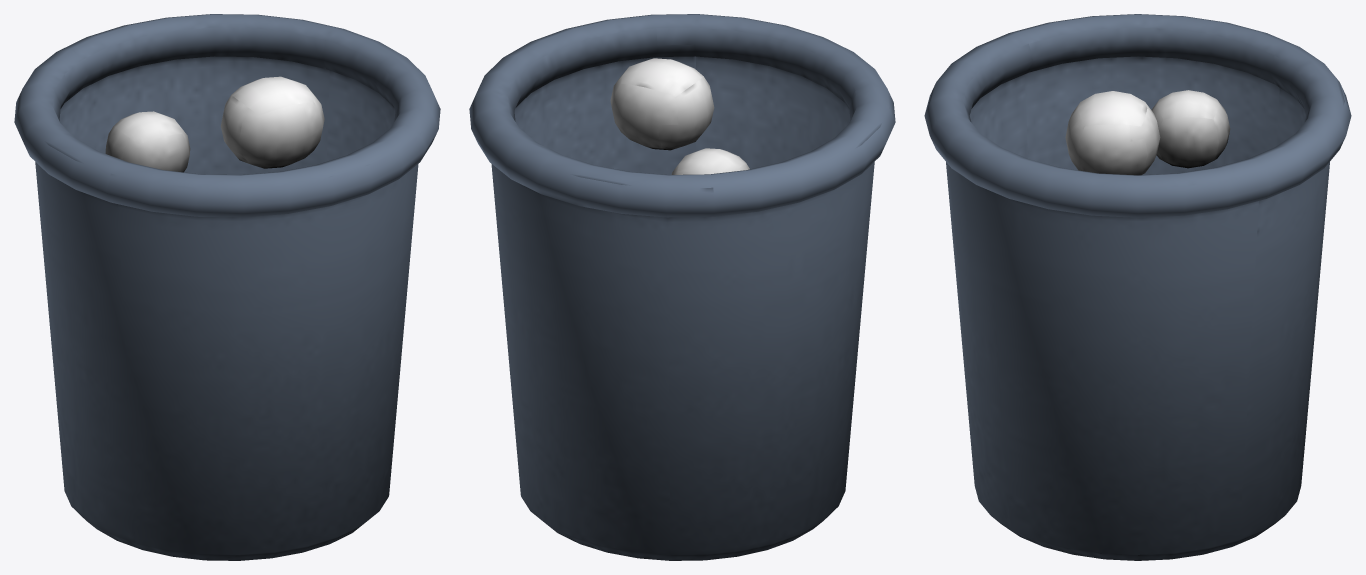
The model's file is trash_bin.glb.
3 views of the same model, side by side, from view 1: azimuth 30°, elevation 25°; view 2: azimuth 150°, elevation 25°; view 3: azimuth 270°, elevation 25° (orthographic).
Visible parts, largest first — view 1: trash_bin; view 2: trash_bin; view 3: trash_bin.
Part boxes in pixels (<box>): trash_bin: <box>14,14,440,560</box>; trash_bin: <box>469,14,895,560</box>; trash_bin: <box>924,14,1351,560</box>.
Size of the model in its own units: 0.34 by 0.3657 by 0.34.
3 materials, 3 textured.
